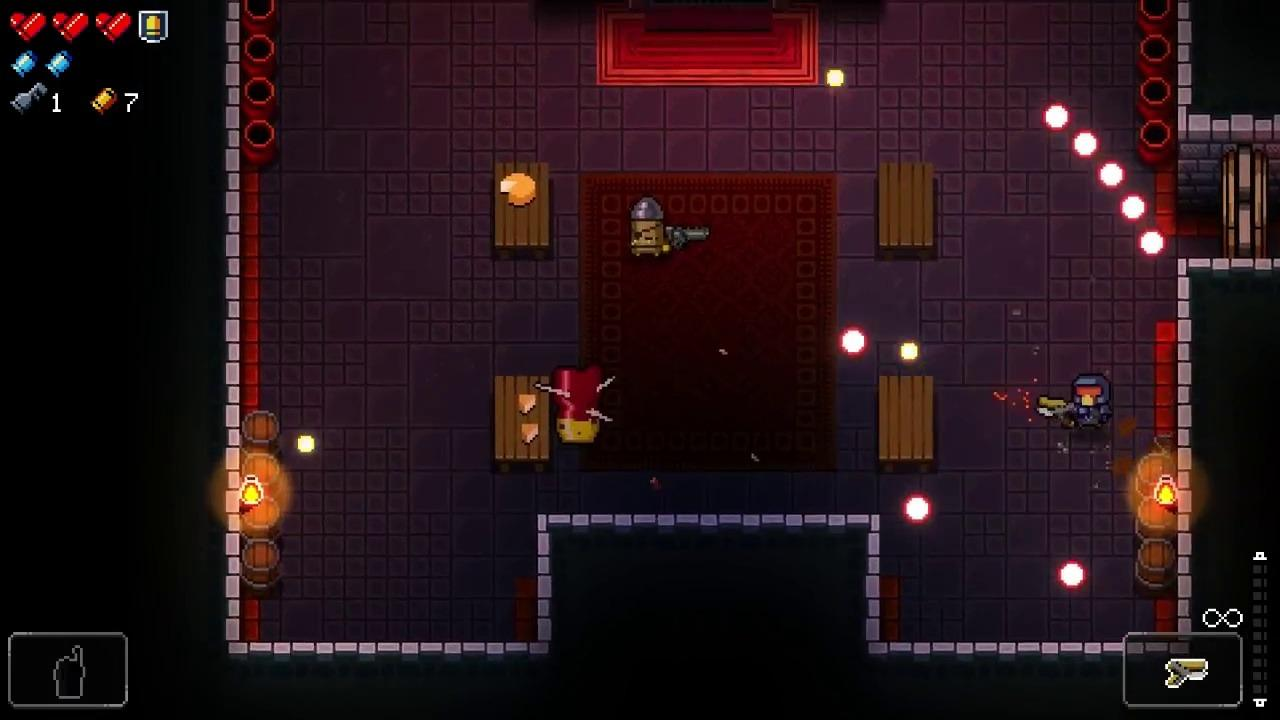bullet: (1057, 559, 1088, 590), (1070, 128, 1098, 161), (1119, 190, 1146, 223), (1041, 101, 1069, 132), (1096, 160, 1125, 189), (841, 326, 868, 357), (902, 495, 931, 523), (1139, 228, 1165, 257)
locked_door: (1225, 139, 1272, 261)
player: (1073, 374, 1114, 429)
red_shotgun_kin: (550, 367, 602, 442)
table: (493, 375, 549, 475), (496, 161, 551, 261), (878, 162, 933, 262), (880, 375, 934, 472)
veteran_bullet_kin: (630, 198, 664, 257)
